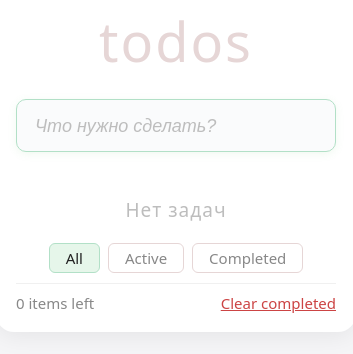
Test: Добавление новой задачи
In the field with placeholder "Что нужно сделать?": coordinates (176, 126) [16,99,336,152], type "Тестовая задача"
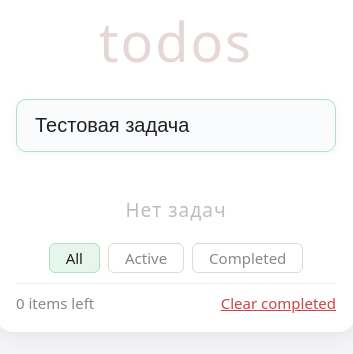
Press Enter in the field with placeholder "Что нужно сделать?", box [16,99,336,152]
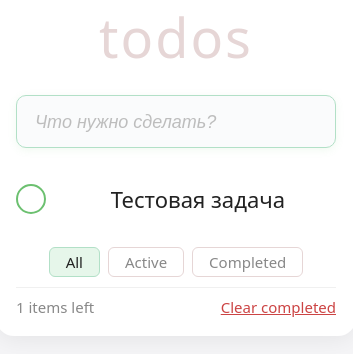
Expected: the text "Тестовая задача" is shown, [111,184,285,214]
